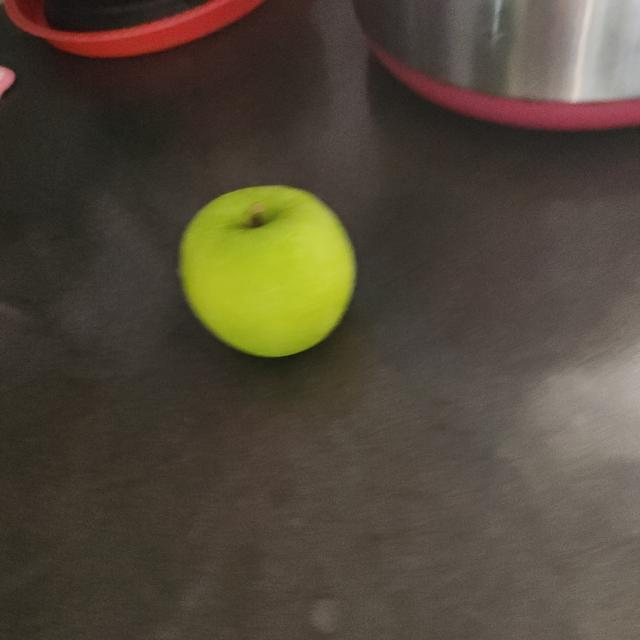apple: (178, 182, 362, 368)
